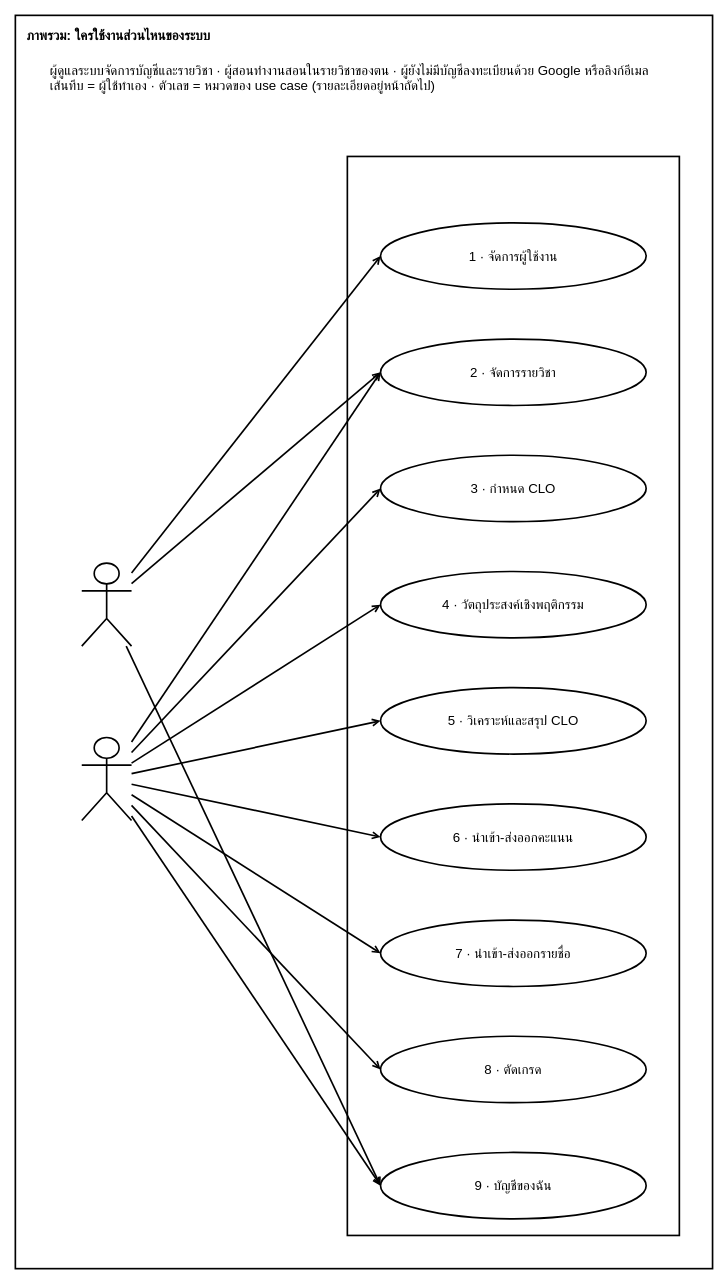
Image size: 727x1283. Some labels were removed from this diagram. The shapes that lost their labels are listed below. From the top down, each one's box as (x1, y1, x2, y2) in pixels, then its label:
(81, 562, 132, 647): ผู้ดูแลระบบ
(346, 155, 680, 1236): ระบบ CMAS
(81, 736, 132, 821): ผู้สอน
